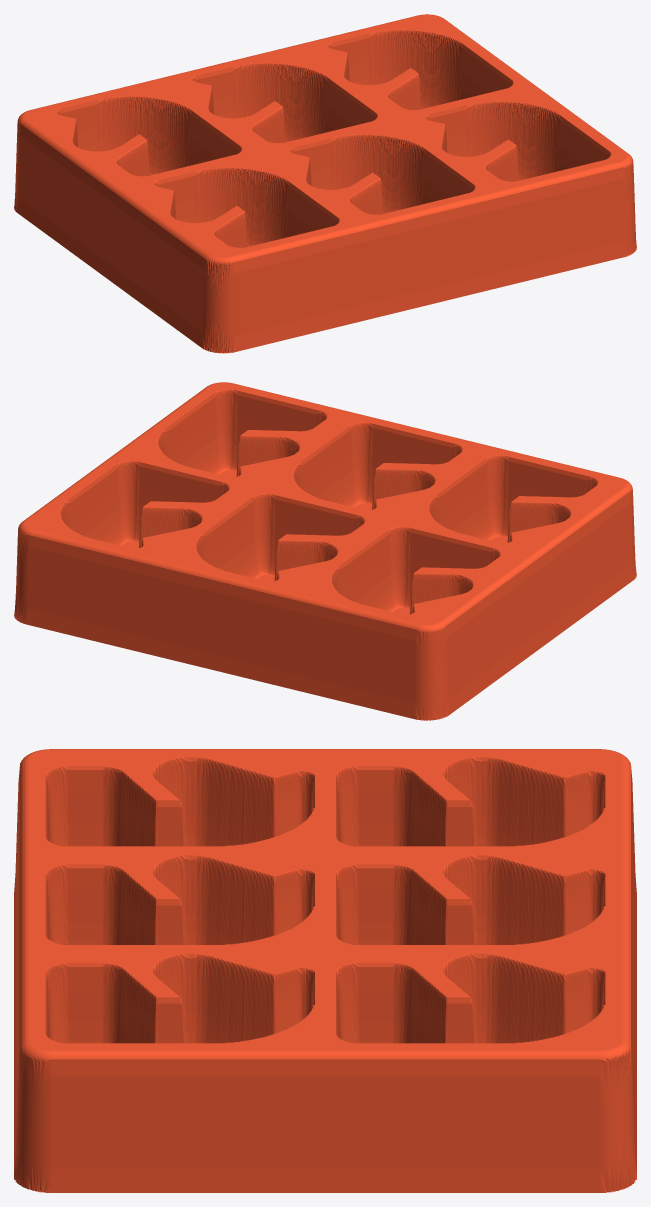
The model's file is mold.glb.
3 renders of one model, top to bottom at view 1: azimuth 30°, elevation 25°; view 2: azimuth 150°, elevation 25°; view 3: azimuth 270°, elevation 25°, orthographic. The views are drawn at different scales.
Visible parts, largest first — view 1: geometry_0; view 2: geometry_0; view 3: geometry_0.
Boxes of the visible parts, left/top/right/bottom form: geometry_0: left=14, top=14, right=636, bottom=353; geometry_0: left=14, top=382, right=636, bottom=720; geometry_0: left=14, top=749, right=636, bottom=1192.
Size of the model in its own units: 0.1774 by 0.036 by 0.1492.
